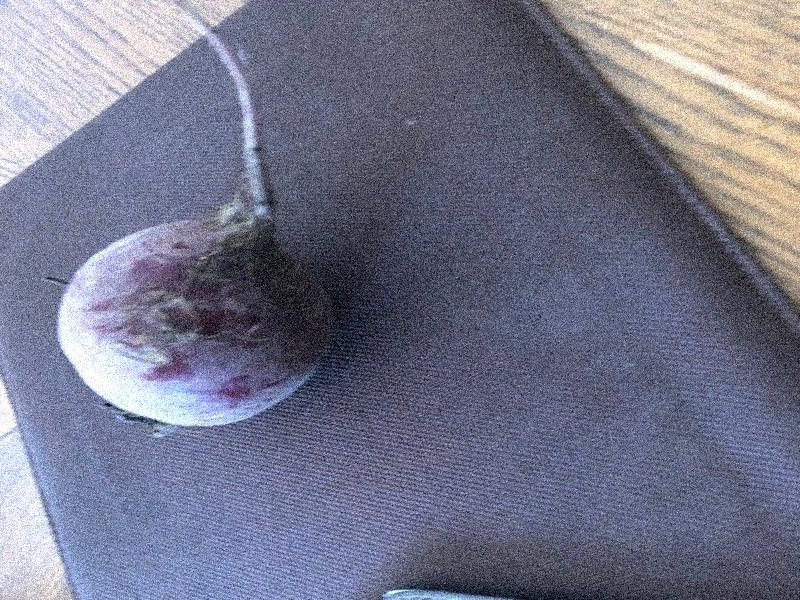Beet: (59, 3, 331, 426)
